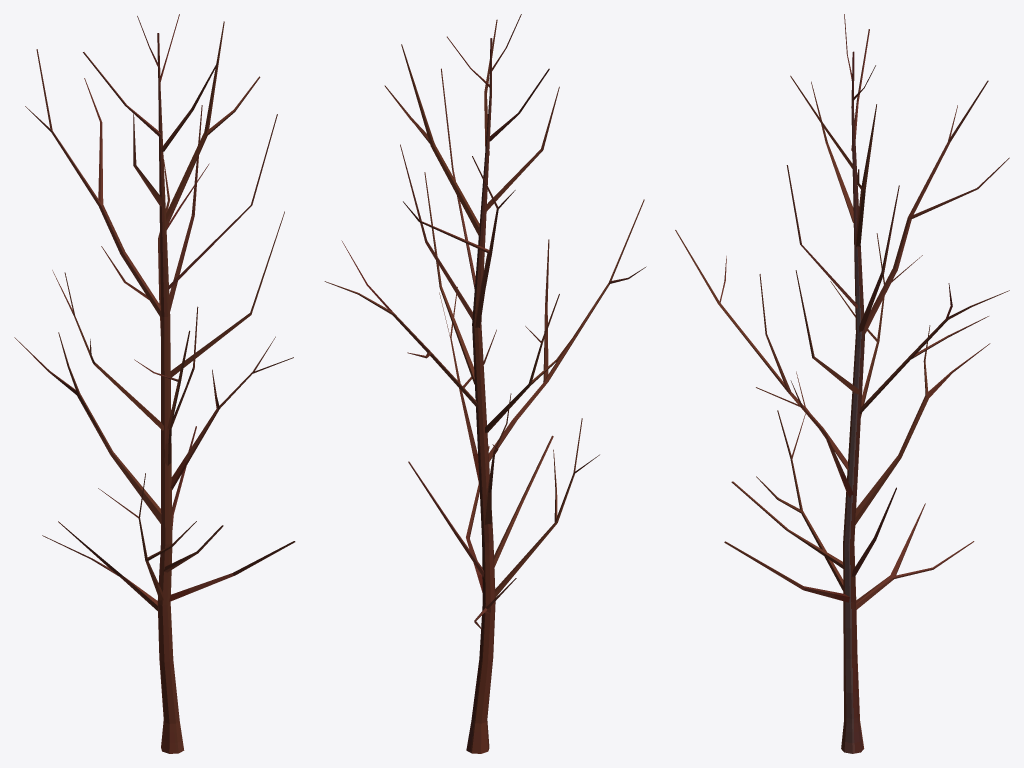
Rendered from Dead_Tree_03.fbx.
The picture shows the model from 3 angles, left to right: view 1: azimuth 30°, elevation 25°; view 2: azimuth 150°, elevation 25°; view 3: azimuth 270°, elevation 25°; orthographic projection. The views are drawn at different scales.
Parts seen in each view (by area): view 1: SM_Town_Tree_Dead_03.mo; view 2: SM_Town_Tree_Dead_03.mo; view 3: SM_Town_Tree_Dead_03.mo.
Part boxes in pixels (x1,y1,x2,y2): SM_Town_Tree_Dead_03.mo: (14,14,295,753); SM_Town_Tree_Dead_03.mo: (324,14,646,753); SM_Town_Tree_Dead_03.mo: (675,14,1009,753).
Bounding box in the file's own units: 104 × 380 × 161.
Materials: 1 (1 with a texture image).
